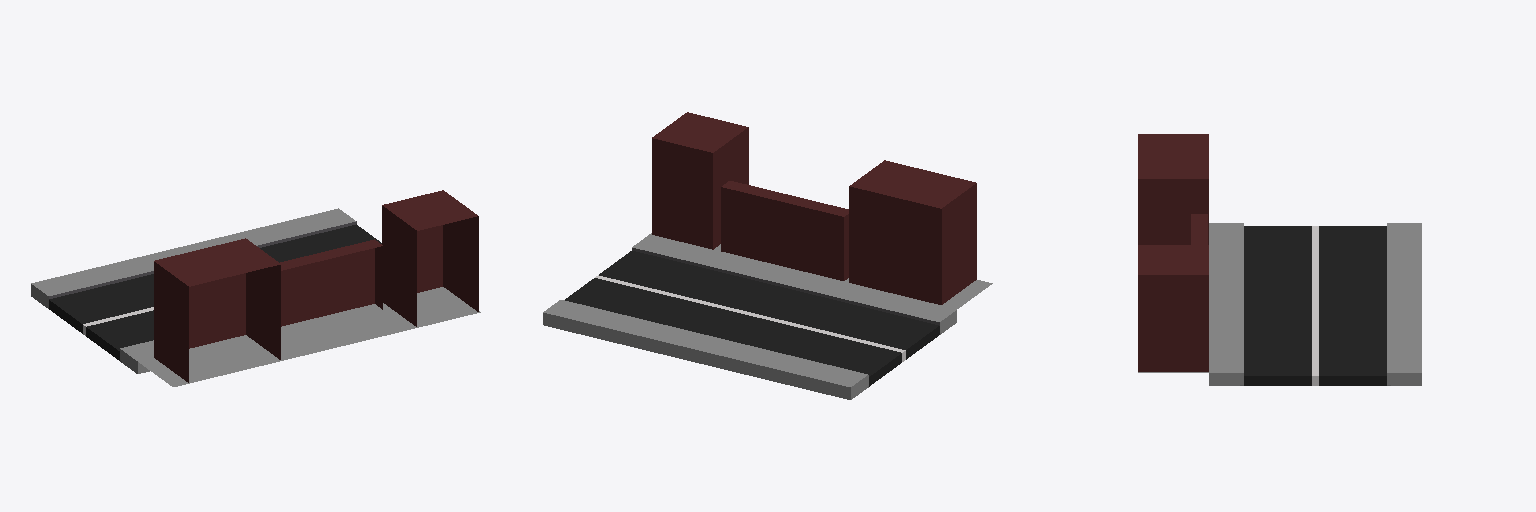
3 renders of one model, left to right at view 1: azimuth 30°, elevation 25°; view 2: azimuth 150°, elevation 25°; view 3: azimuth 270°, elevation 25°, orthographic.
Visible parts, largest first — view 1: Cube; view 2: Cube; view 3: Cube.
Part boxes in pixels (left/top/right/bottom): Cube: left=31, top=190, right=480, bottom=386; Cube: left=543, top=112, right=992, bottom=399; Cube: left=1138, top=134, right=1421, bottom=385.
Size of the model in its own units: 20 by 6.81 by 16.
Materials: 1 (1 with a texture image).